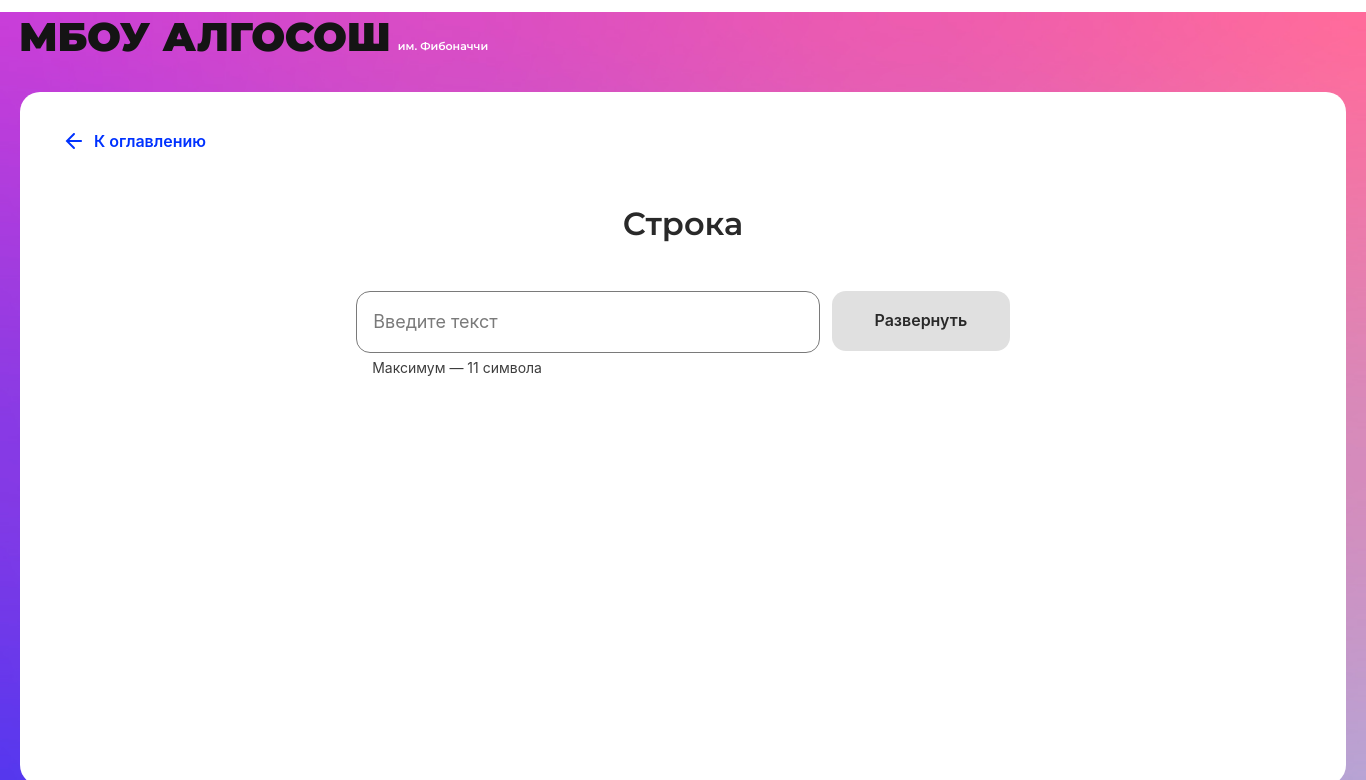
Test case: string page works correctly › button should be disabled if input is empty and active if it is not
expect the button "Развернуть" is disabled: met, box [832,291,1010,351]
Type "hello" into the element showing "Максимум — 11 символа" at (588, 335), box [356,291,820,379]
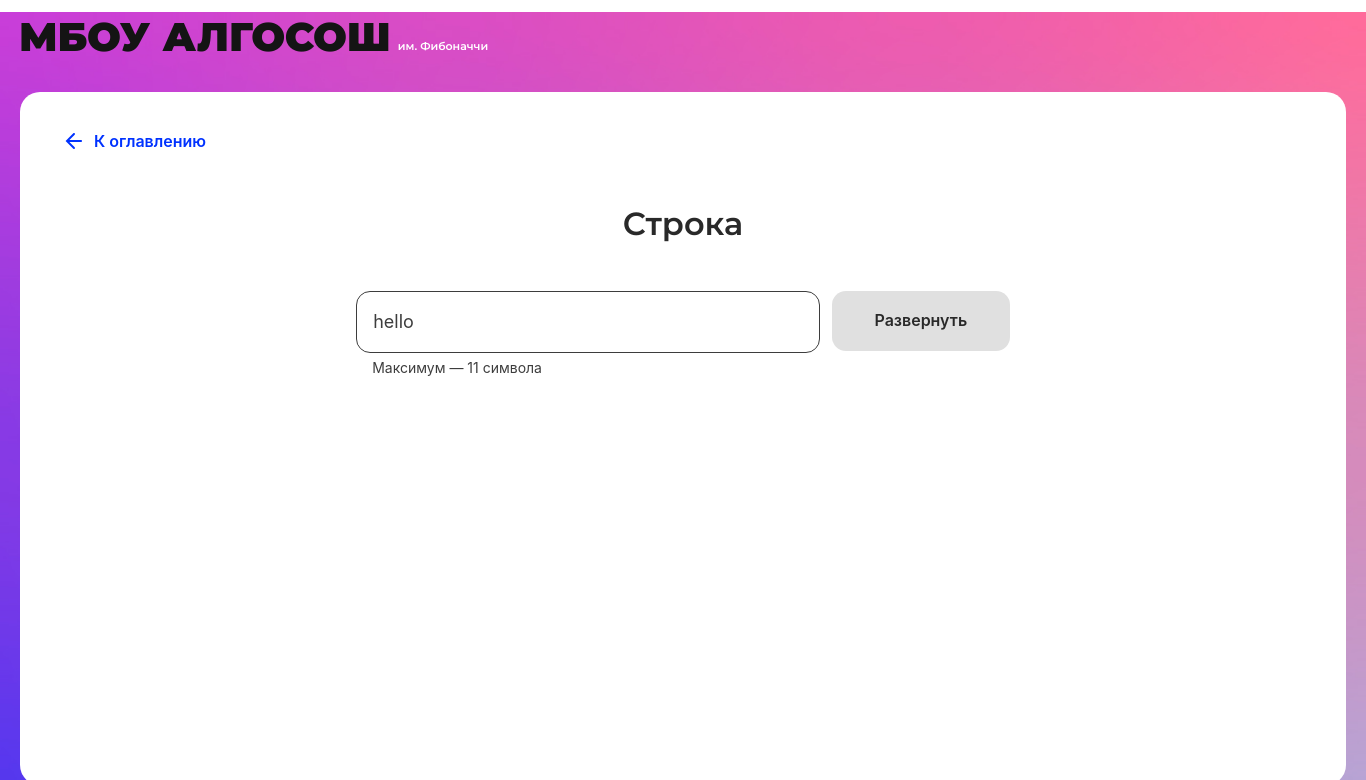
Click the element that starts with "МБОУ АЛГОСОШ" at (50, 62), box [0,12,1365,779]
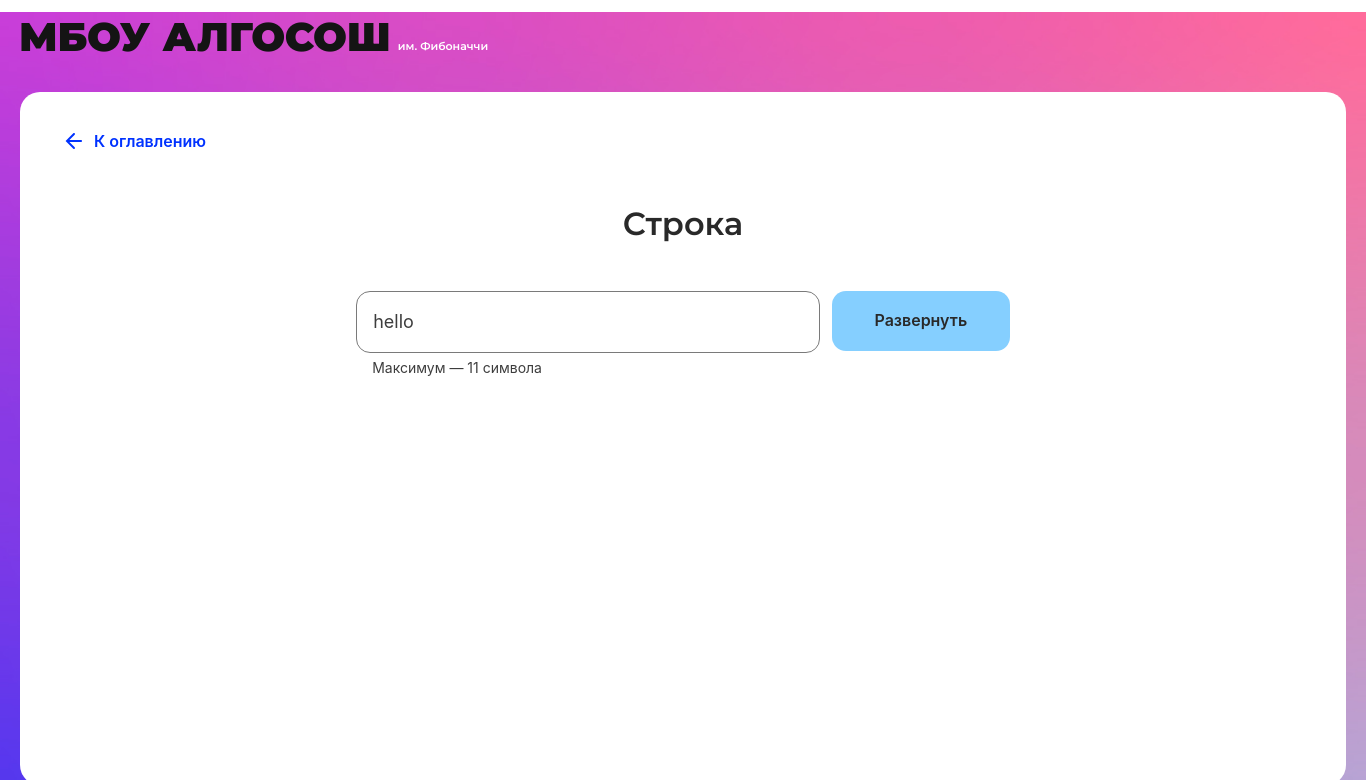
Press Backspace Backspace Backspace {backsp in the element showing "Максимум — 11 символа", box [356,291,820,379]
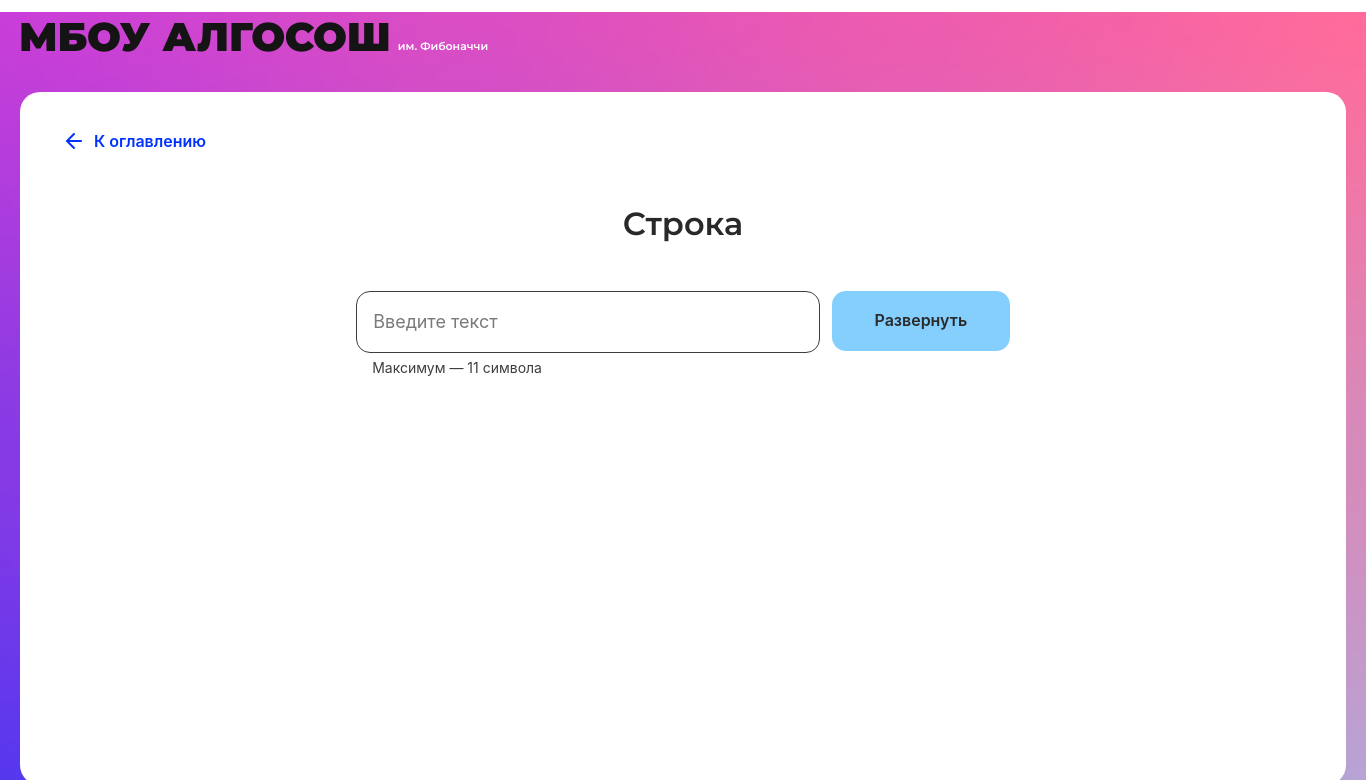
Click the element that starts with "МБОУ АЛГОСОШ" at (50, 62), box [0,12,1365,779]
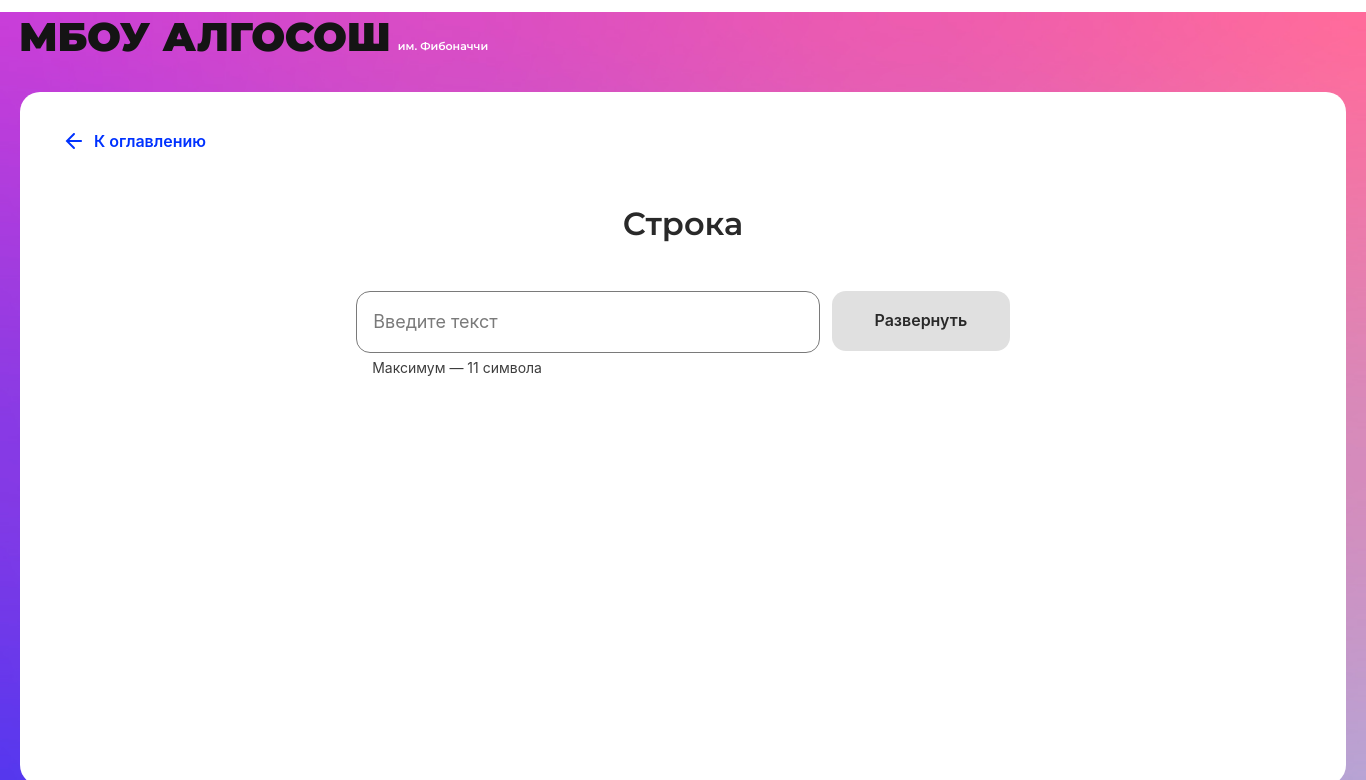
expect the button "Развернуть" is disabled: met, box [832,291,1010,351]
